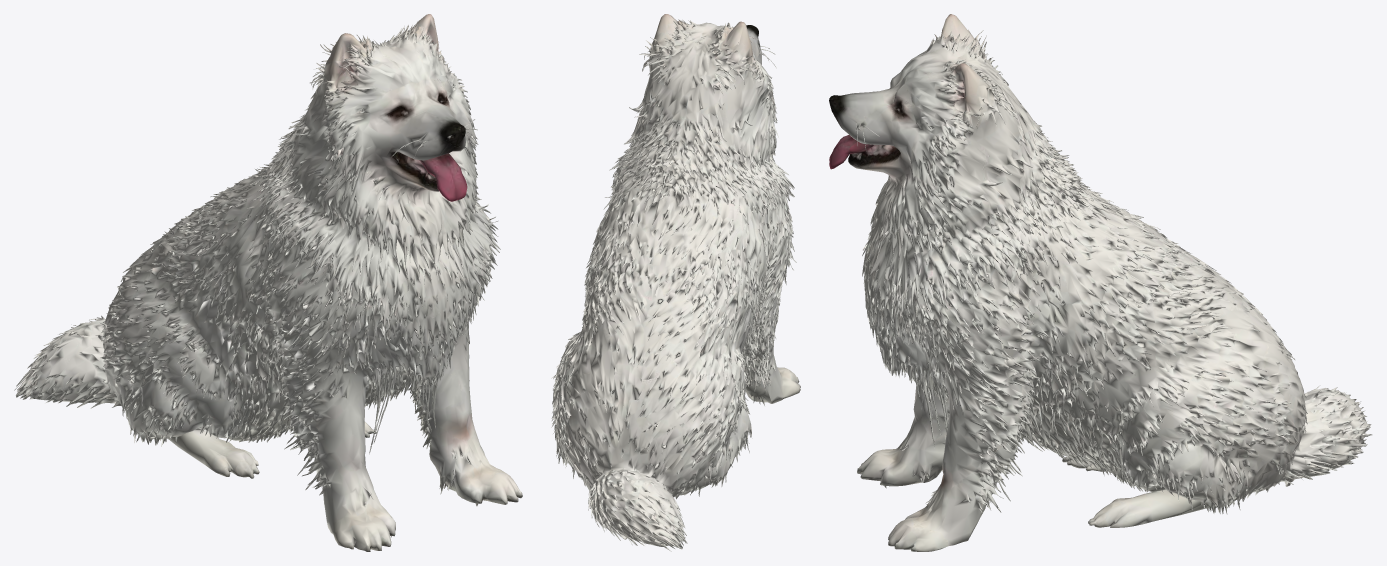
3 views of the same model, side by side, from view 1: azimuth 30°, elevation 25°; view 2: azimuth 150°, elevation 25°; view 3: azimuth 270°, elevation 25° (orthographic). The views are drawn at different scales.
Size of the model in its own units: 1.11 by 1.82 by 1.9.
Materials: 1 (1 with a texture image).
